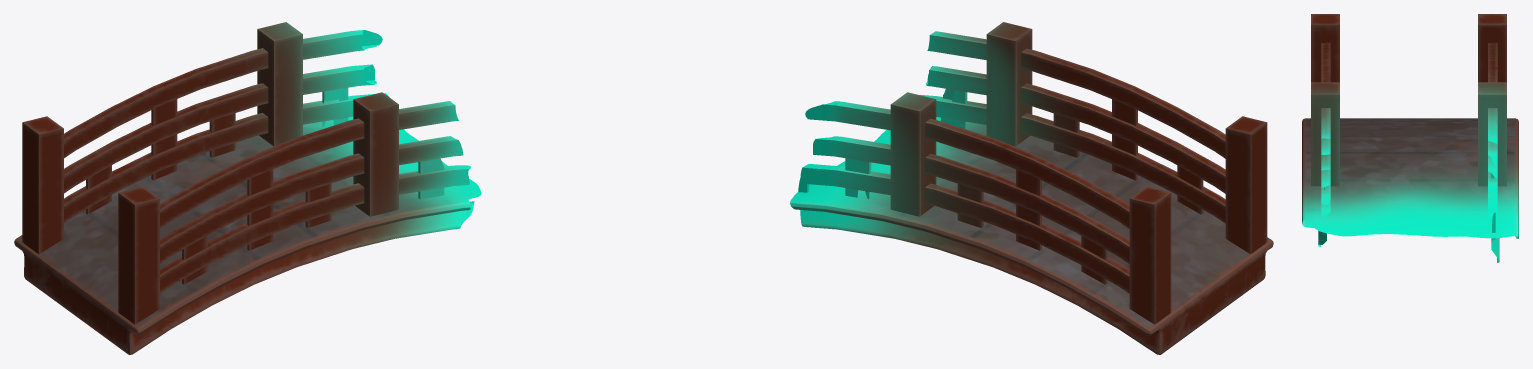
Rendered from SM_RoundBridge_V2.fbx.
The picture shows the model from 3 angles, left to right: view 1: azimuth 30°, elevation 25°; view 2: azimuth 150°, elevation 25°; view 3: azimuth 270°, elevation 25°; orthographic projection. The views are drawn at different scales.
Parts seen in each view (by area): view 1: SM_RoundBridge3, SM_RoundBridge13 (×2), SM_RoundBridge26 (×2), SM_RoundBridge27 (×2), SM_RoundBridge8 (×2), SM_RoundBridge11 (×2), SM_RoundBridge5 (×2), SM_RoundBridge4 (×2), SM_RoundBridge12 (×2), SM_RoundBridge24; view 2: SM_RoundBridge3, SM_RoundBridge13 (×2), SM_RoundBridge26 (×2), SM_RoundBridge27 (×2), SM_RoundBridge8 (×2), SM_RoundBridge11 (×2), SM_RoundBridge5 (×2), SM_RoundBridge4 (×2), SM_RoundBridge12 (×2), SM_RoundBridge24; view 3: SM_RoundBridge3, SM_RoundBridge11 (×2), SM_RoundBridge8 (×2), SM_RoundBridge13 (×2), SM_RoundBridge26 (×2), SM_RoundBridge27 (×2).
Boxes of the visible parts, box(x1,y1,x2,y2) form: SM_RoundBridge3: box(14, 116, 481, 354); SM_RoundBridge13 (×2): box(64, 30, 459, 228); SM_RoundBridge26 (×2): box(64, 64, 463, 263); SM_RoundBridge27 (×2): box(64, 93, 470, 293); SM_RoundBridge8 (×2): box(22, 116, 159, 324); SM_RoundBridge11 (×2): box(257, 22, 398, 216); SM_RoundBridge5 (×2): box(151, 99, 273, 250); SM_RoundBridge4 (×2): box(209, 113, 331, 227); SM_RoundBridge12 (×2): box(86, 165, 207, 284); SM_RoundBridge24: box(418, 158, 444, 199); SM_RoundBridge3: box(790, 117, 1273, 354); SM_RoundBridge13 (×2): box(805, 31, 1225, 228); SM_RoundBridge26 (×2): box(813, 66, 1225, 263); SM_RoundBridge27 (×2): box(800, 95, 1225, 293); SM_RoundBridge8 (×2): box(1129, 116, 1267, 324); SM_RoundBridge11 (×2): box(890, 22, 1032, 216); SM_RoundBridge5 (×2): box(1016, 99, 1137, 250); SM_RoundBridge4 (×2): box(957, 113, 1079, 228); SM_RoundBridge12 (×2): box(1081, 165, 1203, 284); SM_RoundBridge24: box(845, 158, 871, 199); SM_RoundBridge3: box(1302, 118, 1518, 262); SM_RoundBridge11 (×2): box(1311, 82, 1506, 186); SM_RoundBridge8 (×2): box(1311, 14, 1506, 82); SM_RoundBridge13 (×2): box(1321, 42, 1497, 166); SM_RoundBridge26 (×2): box(1321, 154, 1497, 194); SM_RoundBridge27 (×2): box(1321, 185, 1497, 224).
Size of the model in its own units: 5.93 by 2.17 by 2.59.
